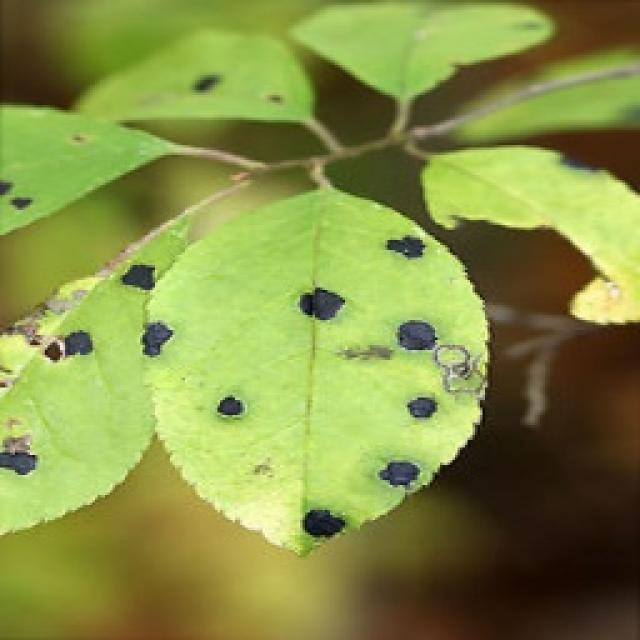Tar_Spot: (140, 182, 492, 558), (0, 258, 158, 542)
